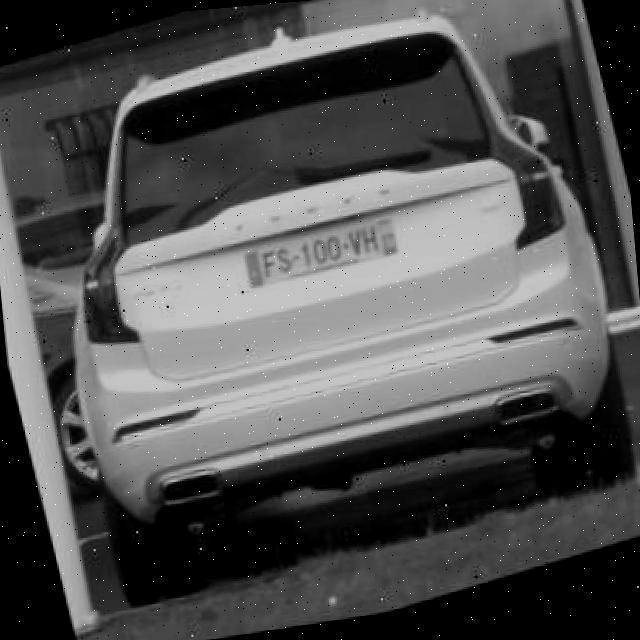EU: (240, 211, 400, 292)
France: (241, 248, 264, 288)
